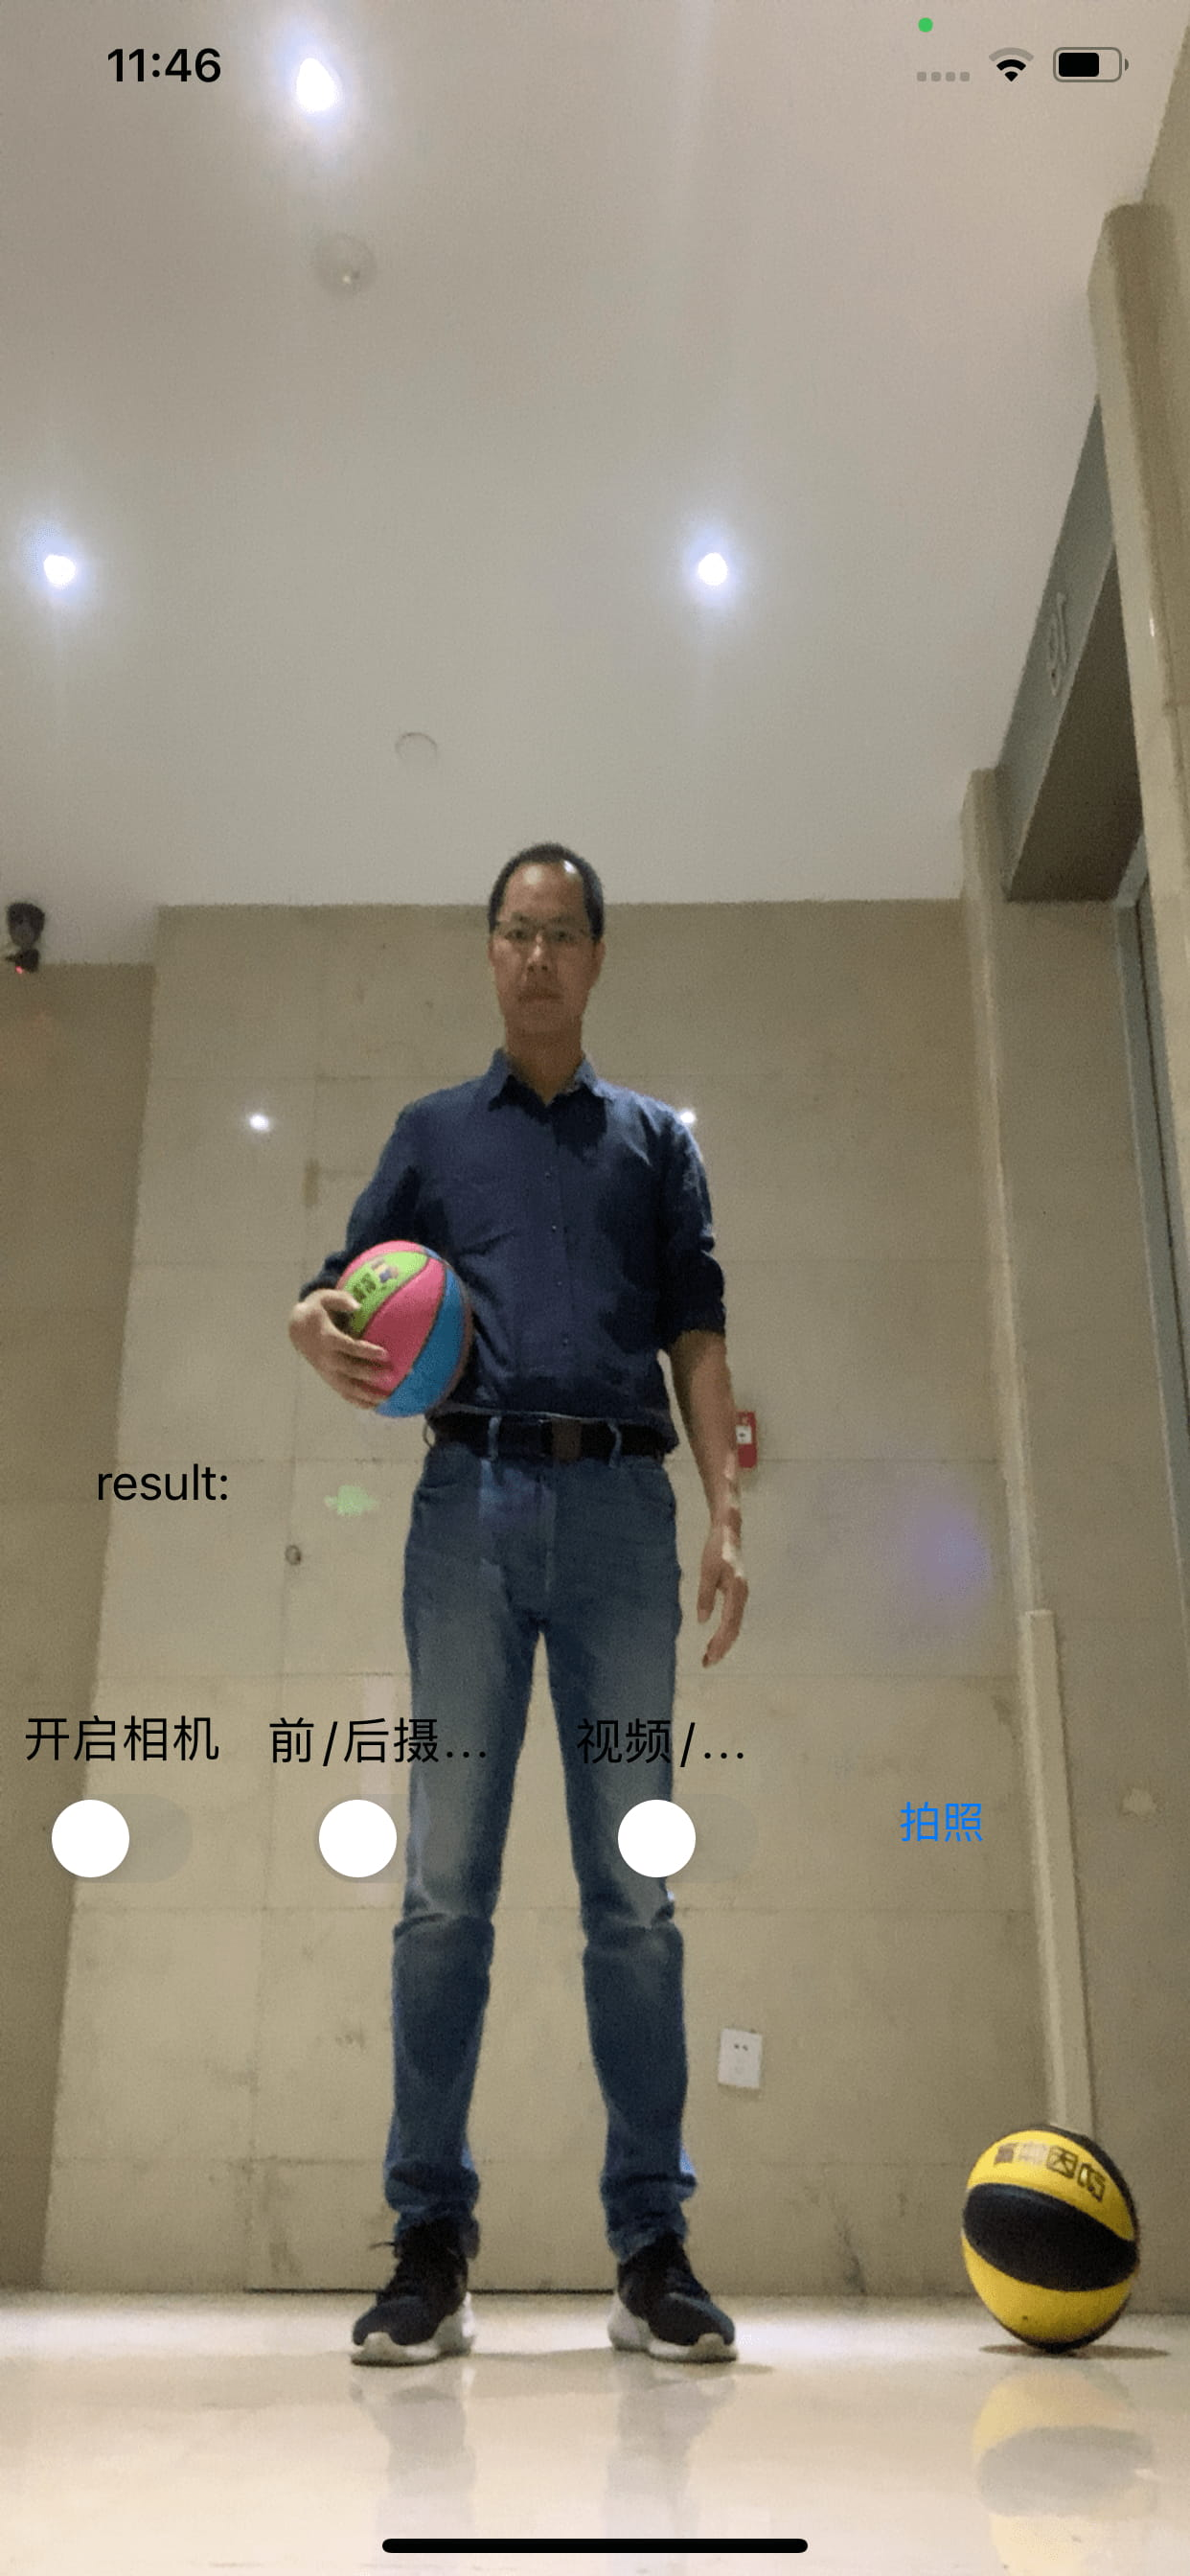ball: (960, 2126, 1147, 2353), (321, 1239, 475, 1421)
